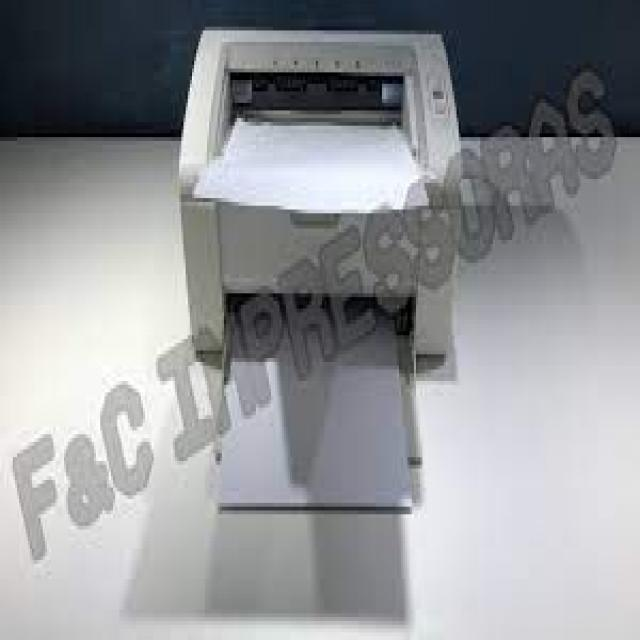printer: (178, 18, 464, 512)
